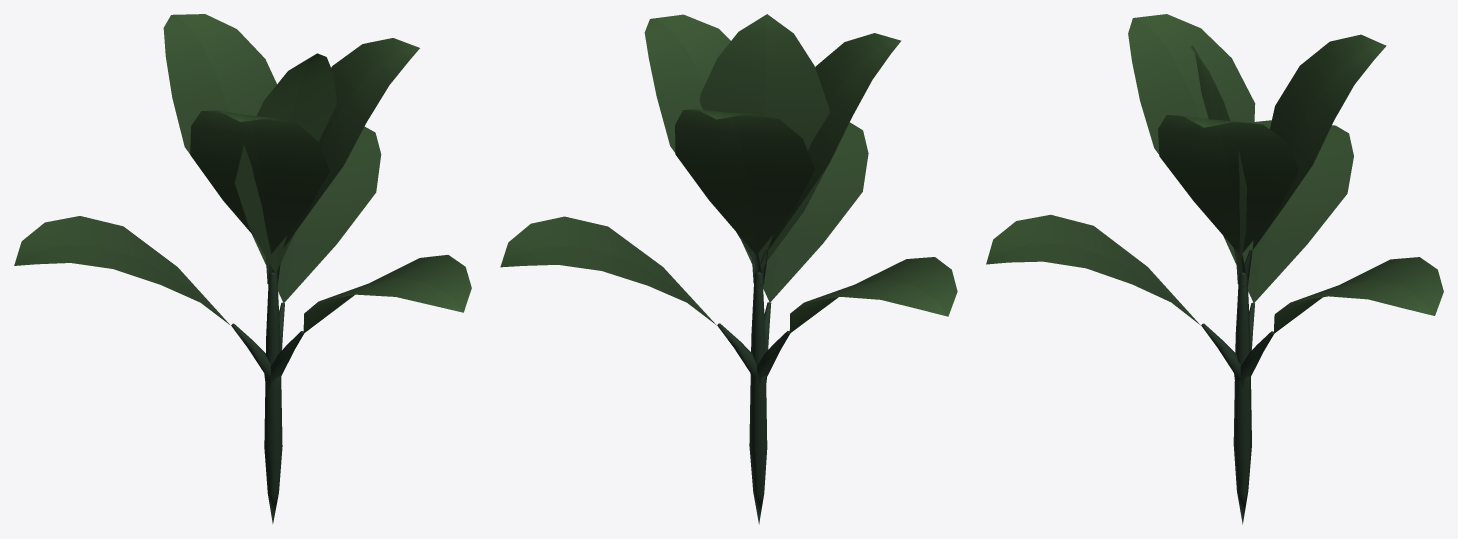
The model's file is plants-leafy-plants-leaf-rosette_v4.glb.
3 renders of one model, left to right at view 1: azimuth 30°, elevation 25°; view 2: azimuth 150°, elevation 25°; view 3: azimuth 270°, elevation 25°, orthographic.
Visible parts, largest first — view 1: Leaf Rosette_v4; view 2: Leaf Rosette_v4; view 3: Leaf Rosette_v4.
Boxes of the visible parts, <box> form: Leaf Rosette_v4: <box>14,14,471,523</box>; Leaf Rosette_v4: <box>500,14,957,524</box>; Leaf Rosette_v4: <box>986,14,1443,524</box>.
Size of the model in its own units: 0.4236 by 0.5 by 0.4266.
